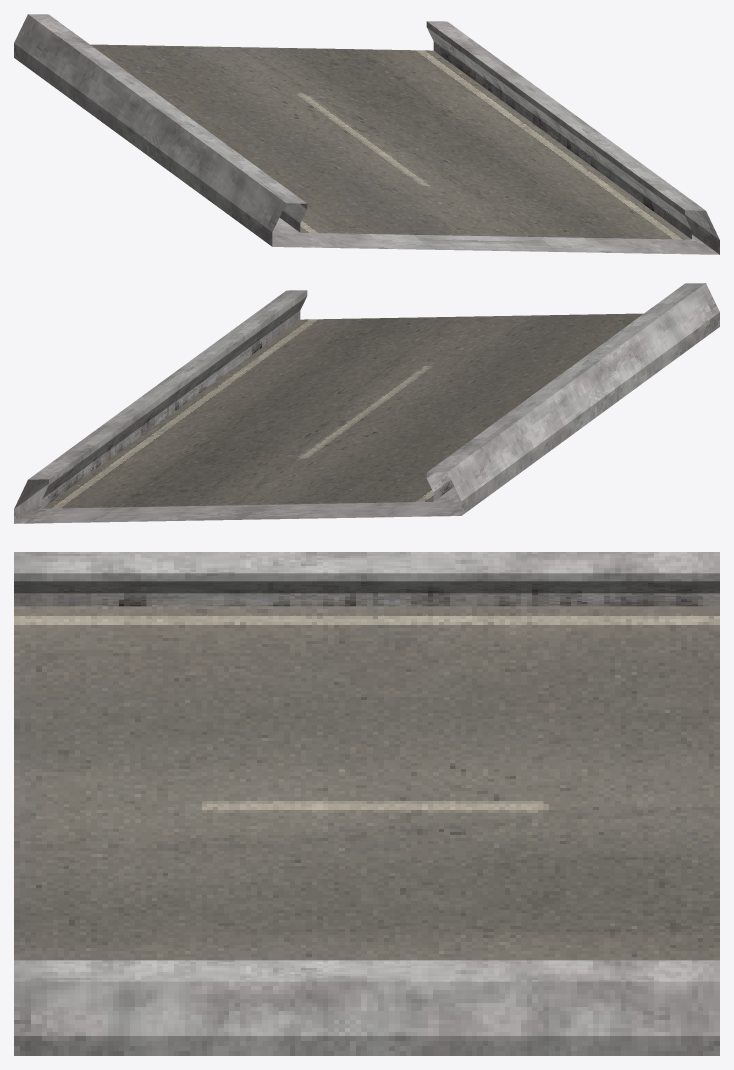
Rendered from straight1.glb.
The picture shows the model from 3 angles, top to bottom: view 1: azimuth 30°, elevation 25°; view 2: azimuth 150°, elevation 25°; view 3: azimuth 270°, elevation 25°; orthographic projection. The views are drawn at different scales.
Visible parts, largest first — view 1: road-Straight-HalfBankedRight-HalfBankedRight-Even-Center-Si; view 2: road-Straight-HalfBankedRight-HalfBankedRight-Even-Center-Si; view 3: road-Straight-HalfBankedRight-HalfBankedRight-Even-Center-Si.
Boxes of the visible parts, x1,y1,x2,y2 form: road-Straight-HalfBankedRight-HalfBankedRight-Even-Center-Si: (14,14,719,254); road-Straight-HalfBankedRight-HalfBankedRight-Even-Center-Si: (14,283,719,523); road-Straight-HalfBankedRight-HalfBankedRight-Even-Center-Si: (14,552,719,1055).
Size of the model in its own units: 1 by 0.3359 by 1.
Materials: 2 (2 with a texture image).
